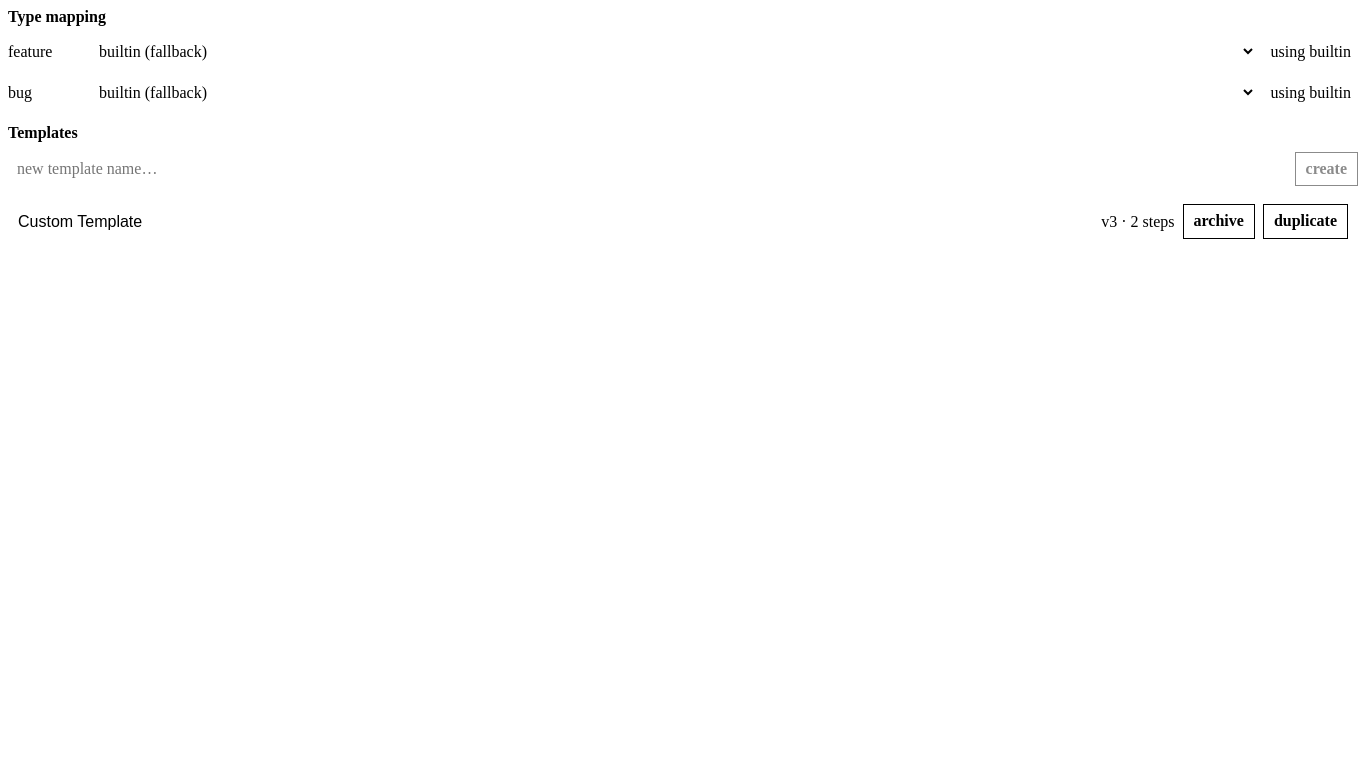
Scenario: WorkflowTemplatesSection editor: diff/version + save gating › shows the current version and "only new Work Items" notice next to save controls
Click the button "Custom Template" at (80, 221), box [18,213,1093,231]
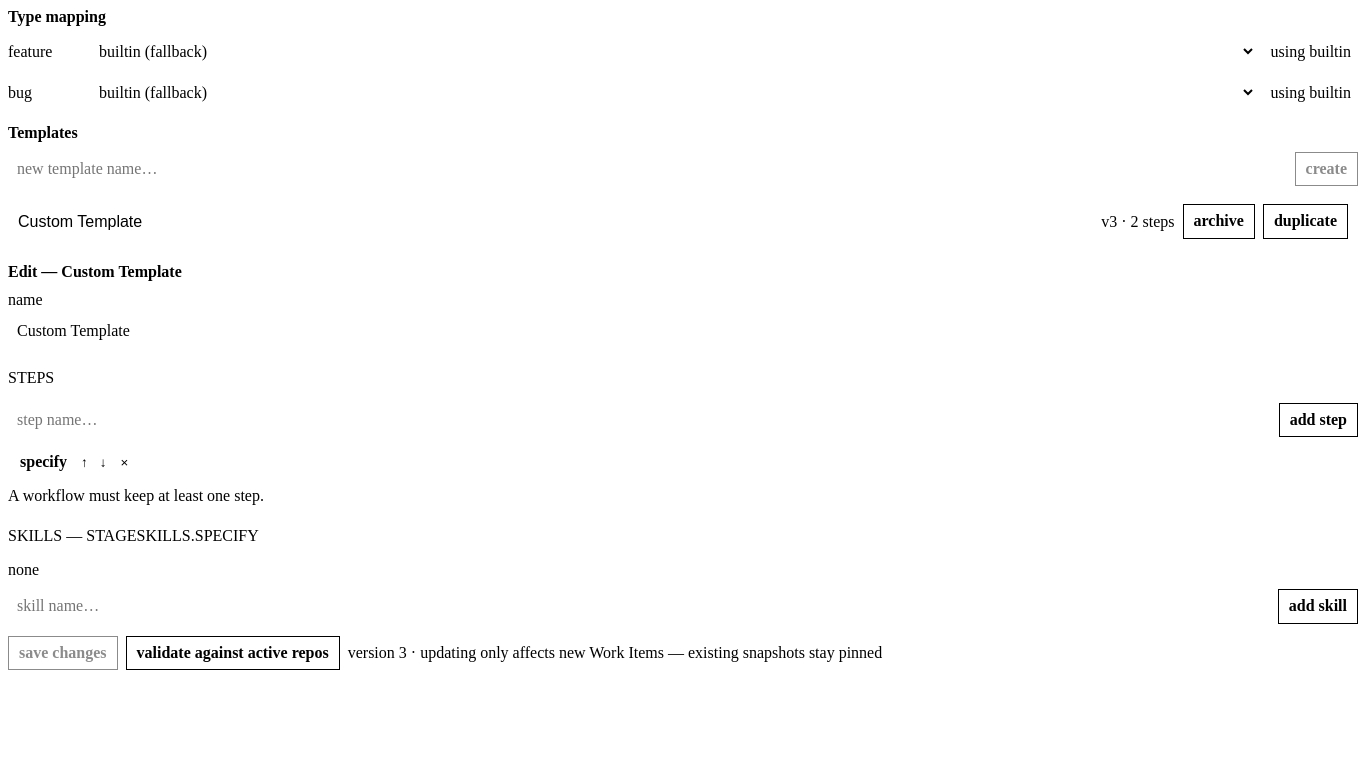
Expected: the text "version 3" is shown, [348,644,882,662]
Expected: the text "updating only affects new Work Items" is shown, [407,644,882,661]
